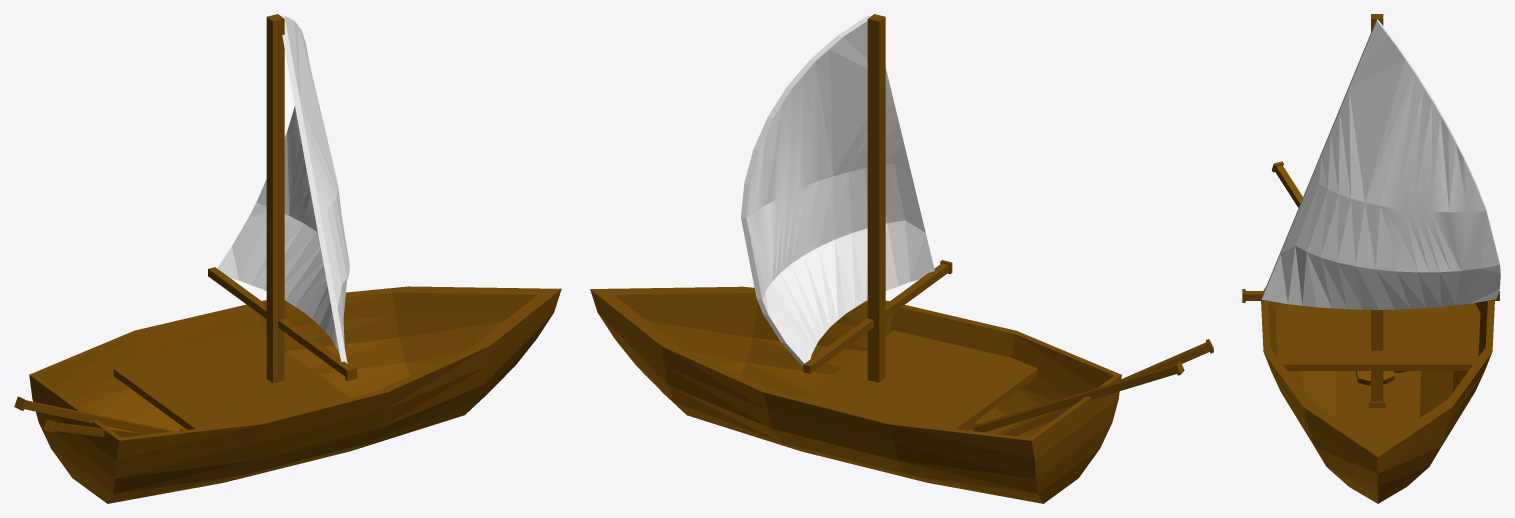
Rendered from Vehicle_Boat_01.fbx.
3 renders of one model, left to right at view 1: azimuth 30°, elevation 25°; view 2: azimuth 150°, elevation 25°; view 3: azimuth 270°, elevation 25°, orthographic. The views are drawn at different scales.
Visible parts, largest first — view 1: Vehicle_Boat_01; view 2: Vehicle_Boat_01; view 3: Vehicle_Boat_01.
Boxes of the visible parts, left/top/right/bottom form: Vehicle_Boat_01: left=14, top=14, right=561, bottom=503; Vehicle_Boat_01: left=590, top=14, right=1213, bottom=503; Vehicle_Boat_01: left=1242, top=14, right=1500, bottom=503.
Bounding box in the file's own units: 5416 × 3881 × 2318.
